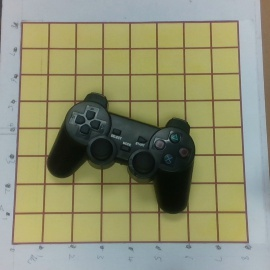remote: (44, 91, 196, 215)
